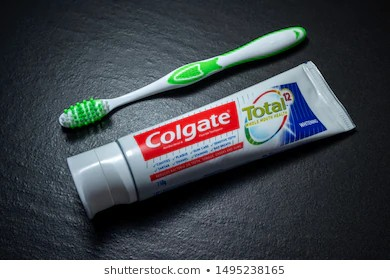colgate-total-150mg: (58, 56, 371, 225)
toothbrush: (49, 15, 325, 141)
